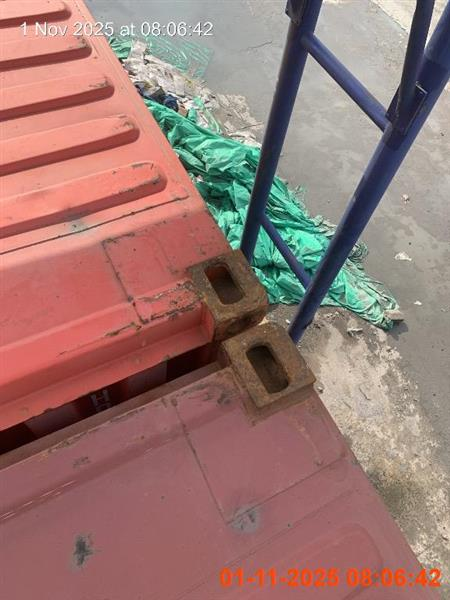broken: (1, 0, 446, 597), (2, 0, 442, 596)
